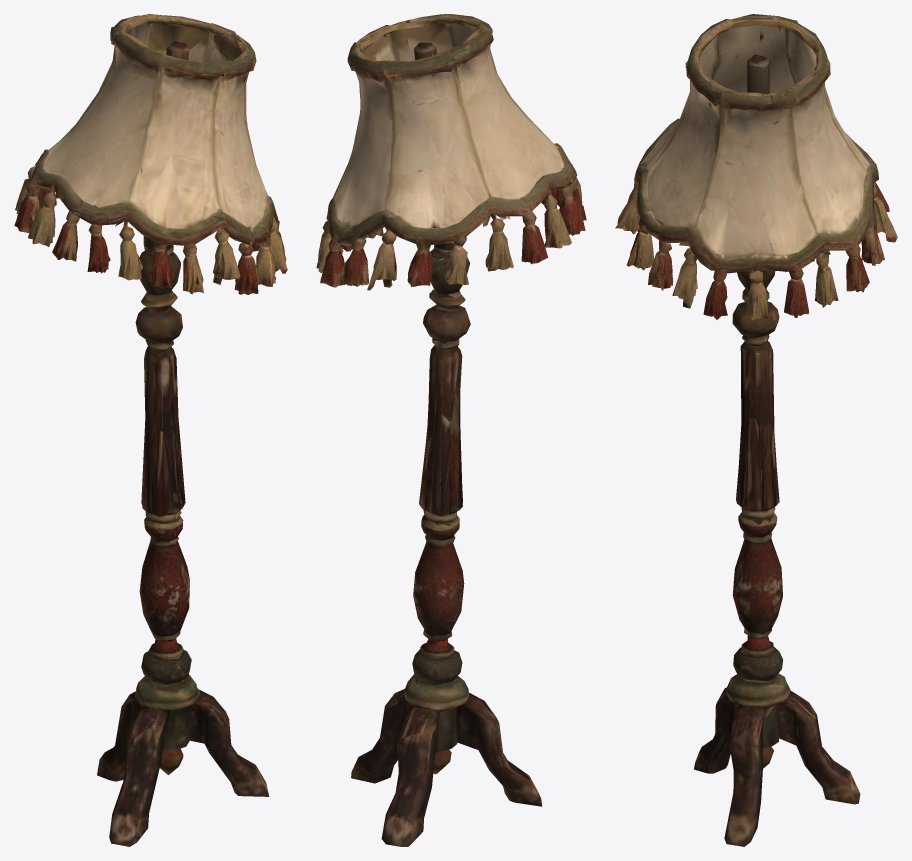
The model's file is p_floor_lamp.glb.
The picture shows the model from 3 angles, left to right: view 1: azimuth 30°, elevation 25°; view 2: azimuth 150°, elevation 25°; view 3: azimuth 270°, elevation 25°; orthographic projection.
Visible parts, largest first — view 1: p_floor_lamp; view 2: p_floor_lamp; view 3: p_floor_lamp.
Boxes of the visible parts, bbox=[...] form: p_floor_lamp: bbox=[14, 14, 287, 846]; p_floor_lamp: bbox=[316, 14, 586, 846]; p_floor_lamp: bbox=[615, 14, 897, 846].
Bounding box in the file's own units: 0.5394 × 1.7 × 0.5662.
1 material, 1 textured.
